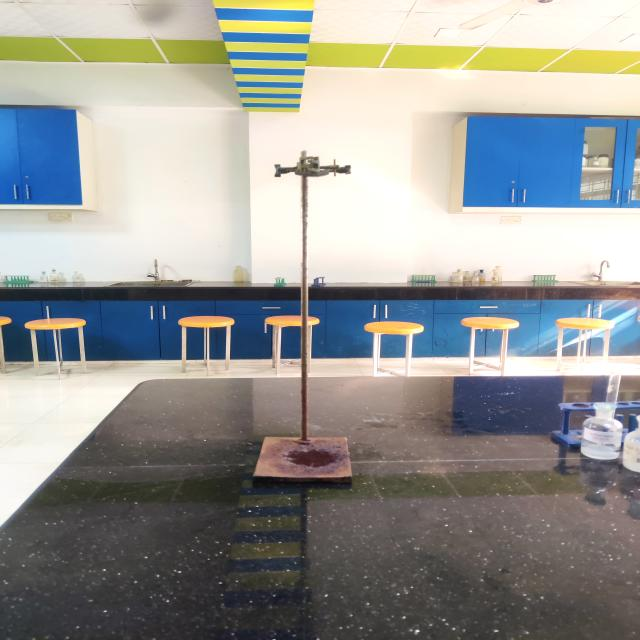Burette_Stands: (230, 130, 395, 514)
